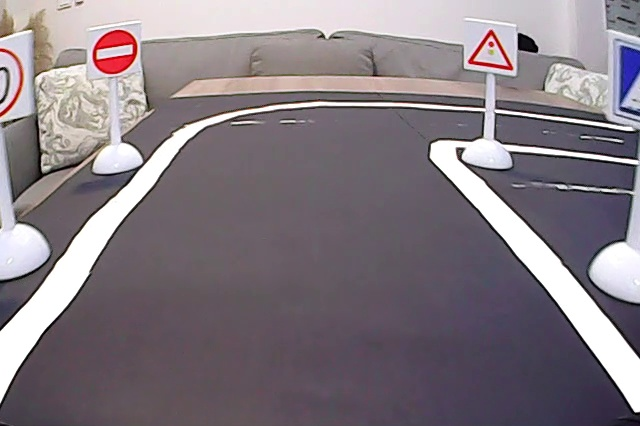do not enter: (89, 28, 140, 78)
red light: (464, 23, 518, 74)
